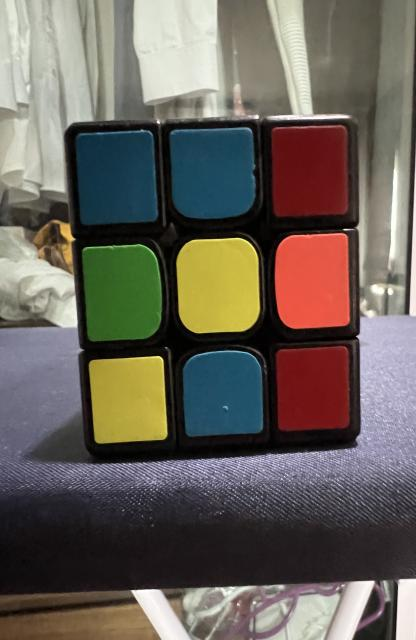Blue: (169, 128, 256, 219), (76, 130, 158, 225), (183, 350, 263, 436)
Green: (82, 244, 162, 341)
Orange: (275, 232, 350, 329)
Red: (272, 125, 348, 216), (276, 346, 350, 431)
Yellow: (177, 238, 260, 334), (89, 356, 168, 444)
